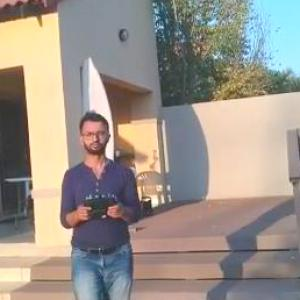follow: (58, 104, 148, 298)
